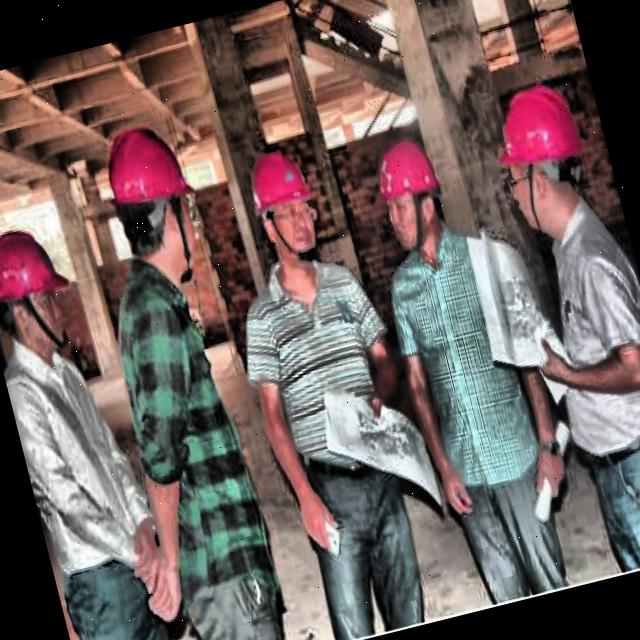helmet: (94, 109, 222, 298), (479, 72, 604, 245), (238, 140, 340, 280), (0, 214, 89, 363), (362, 129, 456, 263)
